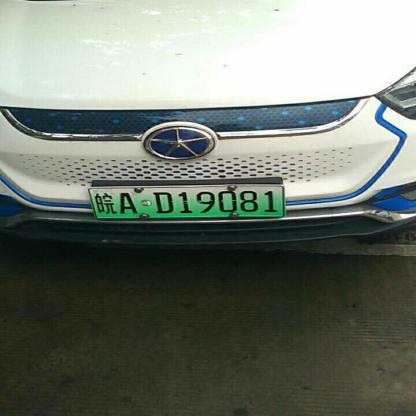lp: (88, 186, 284, 218)
